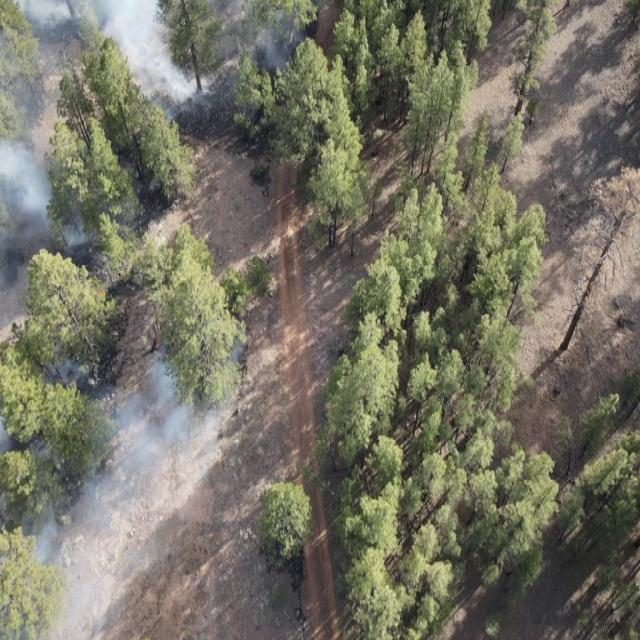fire: (144, 332, 172, 361), (90, 282, 109, 303)
smoke: (0, 116, 245, 640), (0, 0, 312, 116)
